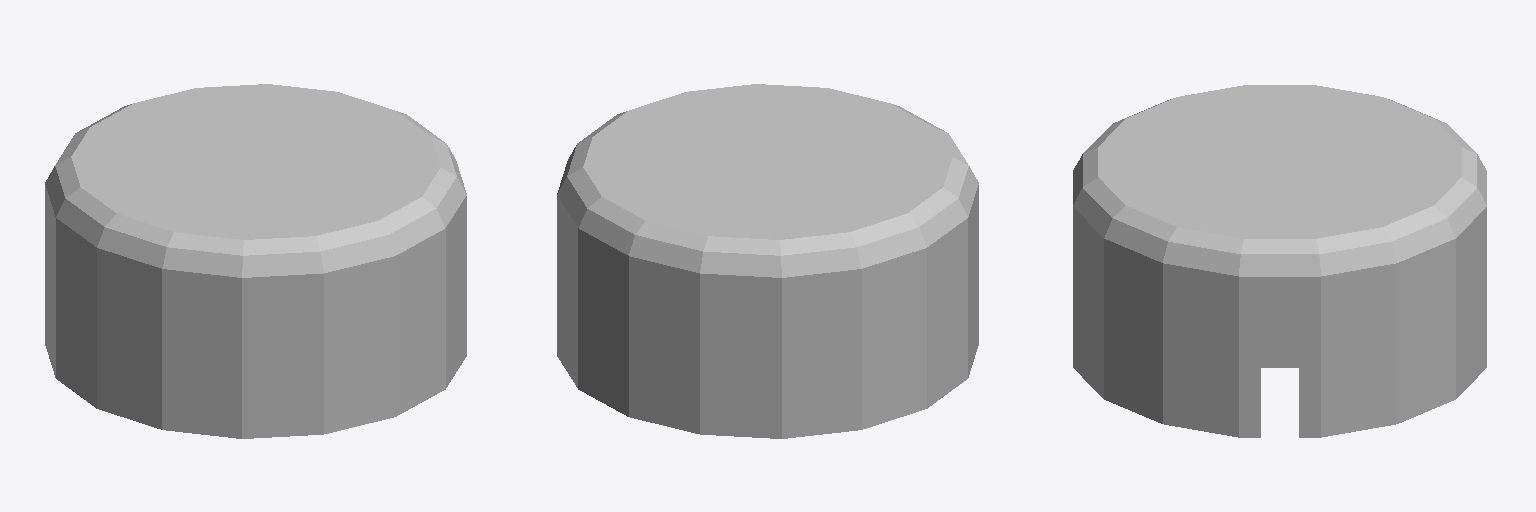
File: lighthouse_part_2.obj
3 views of the same model, side by side, from view 1: azimuth 30°, elevation 25°; view 2: azimuth 150°, elevation 25°; view 3: azimuth 270°, elevation 25° (orthographic).
Visible parts, largest first — view 1: Base; view 2: Base; view 3: Base.
Part boxes in pixels (left/top/right/bottom): Base: left=45, top=84, right=466, bottom=438; Base: left=557, top=84, right=978, bottom=438; Base: left=1073, top=85, right=1486, bottom=437.
Size of the model in its own units: 4 by 2 by 4.